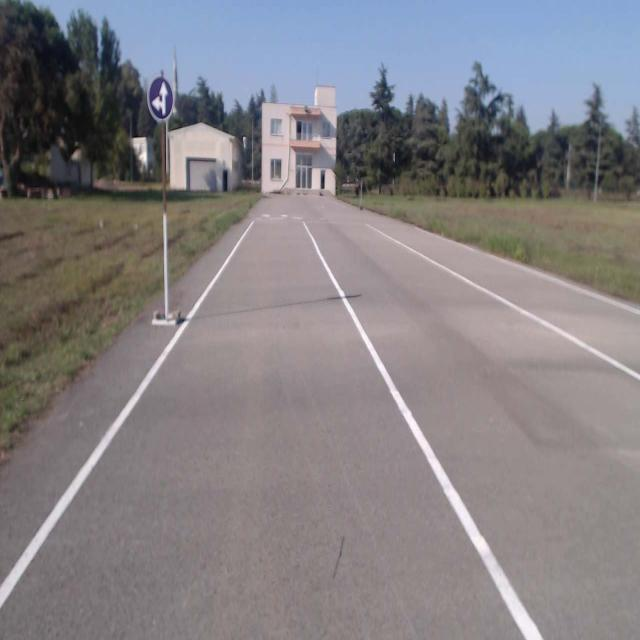ilerisol: (147, 76, 171, 124)
